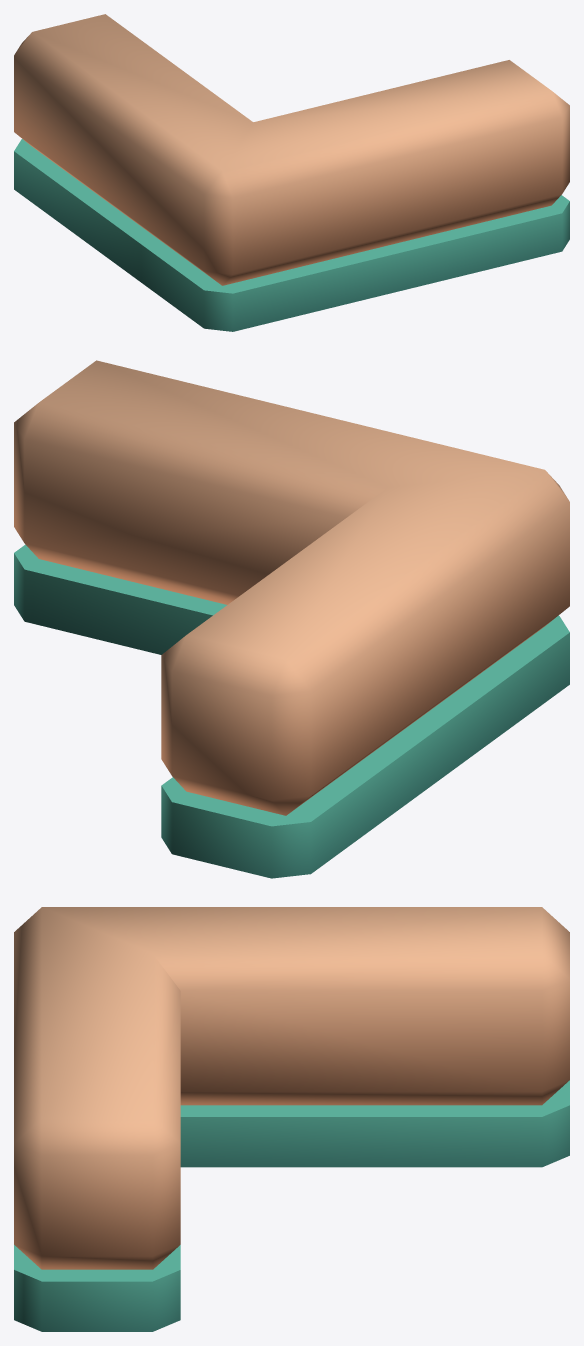
The model's file is hedge-corner.glb.
3 views of the same model, one above another, from view 1: azimuth 30°, elevation 25°; view 2: azimuth 150°, elevation 25°; view 3: azimuth 270°, elevation 25° (orthographic). The views are drawn at different scales.
Visible parts, largest first — view 1: hedge-corner; view 2: hedge-corner; view 3: hedge-corner.
Boxes of the visible parts, left/top/right/bottom form: hedge-corner: left=14, top=14, right=569, bottom=331; hedge-corner: left=14, top=360, right=569, bottom=878; hedge-corner: left=14, top=907, right=569, bottom=1331.
Size of the model in its own units: 1 by 0.4 by 1.
